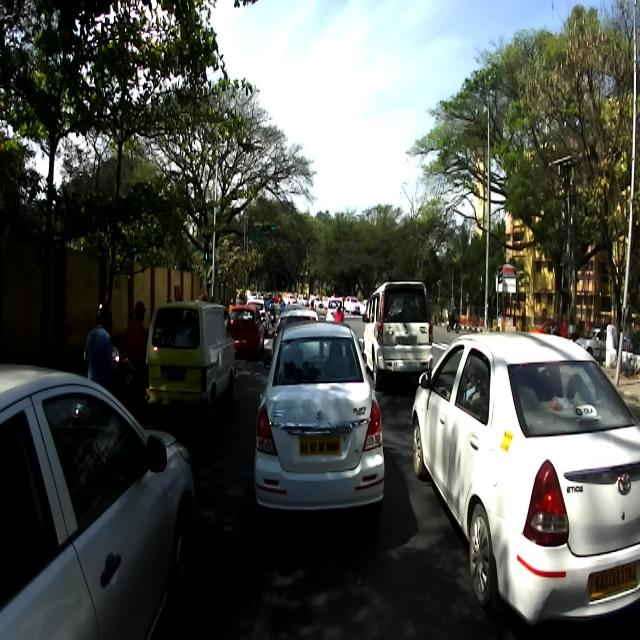Car: (0, 365, 196, 639)
Car_Mahindra: (361, 280, 433, 390)
Car_Maruti-Suzuki: (253, 318, 385, 527), (140, 301, 238, 431)
Car_Toyota: (412, 329, 640, 632)
scooter: (70, 346, 139, 420)
